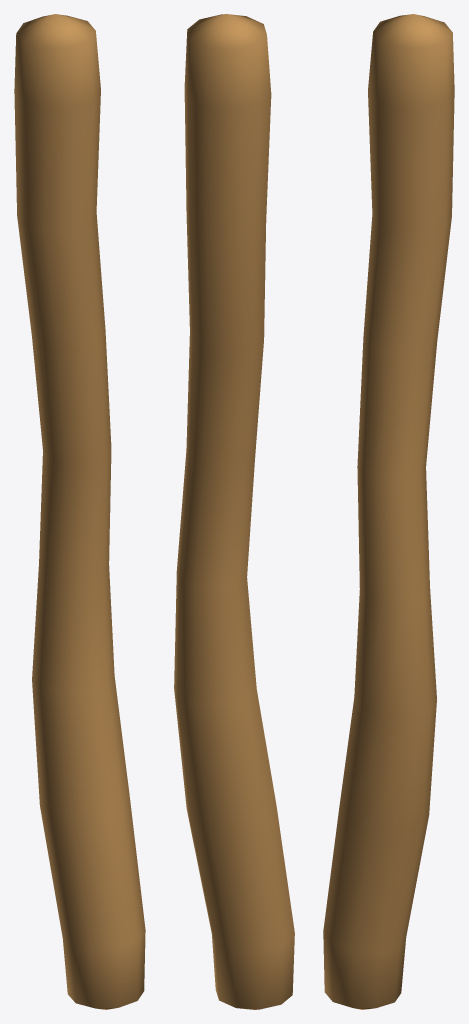
The model's file is tibia_T2_left_leg.obj.
3 views of the same model, side by side, from view 1: azimuth 90°, elevation 25°; view 2: azimuth 150°, elevation 25°; view 3: azimuth 270°, elevation 25° (orthographic).
Bounding box in the file's own units: 0.00703 × 0.0738 × 0.00881.
